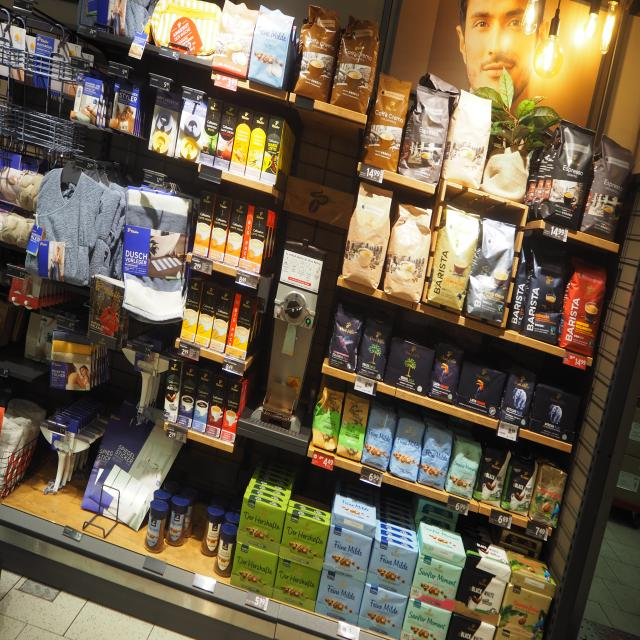AB Bohne: (497, 363, 538, 431)
AB Gemahlen: (529, 381, 581, 443)
Athiopien Bohne: (309, 383, 347, 456)
Athiopien Gemahlen: (335, 390, 373, 464)
BM Bohne: (354, 307, 396, 383)
BM Gemahlen: (384, 333, 436, 397)
BW Bohne: (471, 438, 513, 508), (501, 448, 541, 518)
BW Gemahlen: (453, 568, 508, 628), (463, 532, 512, 573), (445, 613, 497, 640)
Barista CB: (425, 199, 483, 313)
Barista CC: (464, 213, 521, 325)
Barista Espresso: (518, 239, 572, 348)
Barista Kolumbien: (556, 253, 611, 359)
C Fino Bohne: (325, 299, 367, 376)
CC Mild: (340, 178, 397, 293), (440, 84, 497, 193), (380, 198, 436, 307)
CC Vollmundig: (209, 1, 261, 81)
CC Vollmundig 36 Pads: (328, 12, 385, 117), (292, 0, 346, 105), (361, 69, 413, 174)
Colombia BB Bohne: (529, 460, 569, 530)
Colombia BB Gemahlen: (498, 582, 553, 640), (505, 549, 559, 588)
Empty Shelf: (376, 507, 423, 542), (289, 478, 335, 513)
Espresso Aromatisch: (579, 132, 635, 244), (397, 81, 455, 188)
Espresso Kraftig: (535, 116, 597, 234)
FM 36 Pads: (246, 2, 297, 93)
FM Bohne: (361, 403, 401, 474), (387, 413, 427, 484), (416, 421, 455, 492)
FM Gemahlen: (365, 538, 419, 598), (356, 581, 410, 640), (313, 568, 366, 628), (321, 523, 373, 584), (332, 492, 377, 527)
FM Instant: (141, 498, 171, 558), (162, 492, 190, 552)
Herzhatfe Mundig: (235, 495, 286, 556), (278, 511, 330, 570), (271, 556, 322, 615), (229, 541, 280, 600)
LG Bohne: (426, 336, 466, 407)
LG Gemahlen: (455, 358, 507, 421)
SM Bohne: (444, 436, 484, 501)
SM Gemahlen: (409, 552, 464, 612), (399, 596, 453, 640), (420, 520, 467, 558)
Simo CC Colombia: (214, 101, 239, 172)
Simo CCMild bigpack: (195, 282, 220, 349), (180, 275, 204, 344)
Simo CCVollmundig: (239, 204, 273, 275), (225, 292, 256, 361)
Simo CCVollmundig bigpack: (207, 193, 233, 262), (224, 198, 249, 268), (192, 190, 216, 259)
Simo Decaff: (209, 287, 234, 353)
Simo Es Brazil: (199, 97, 224, 167)
Simo Es Caramel: (229, 105, 255, 176)
Simo Es Elegant: (220, 376, 245, 444)
Simo Es Kraft: (205, 372, 229, 439)
Simo Es Vanilla: (244, 110, 270, 180)
Simo Kaffee BW: (162, 357, 182, 425)
Simo Kaffee Kraft: (177, 362, 198, 429)
Simo Kaffee Mild: (191, 367, 213, 434)
Simo Sunrise: (260, 114, 285, 186)
